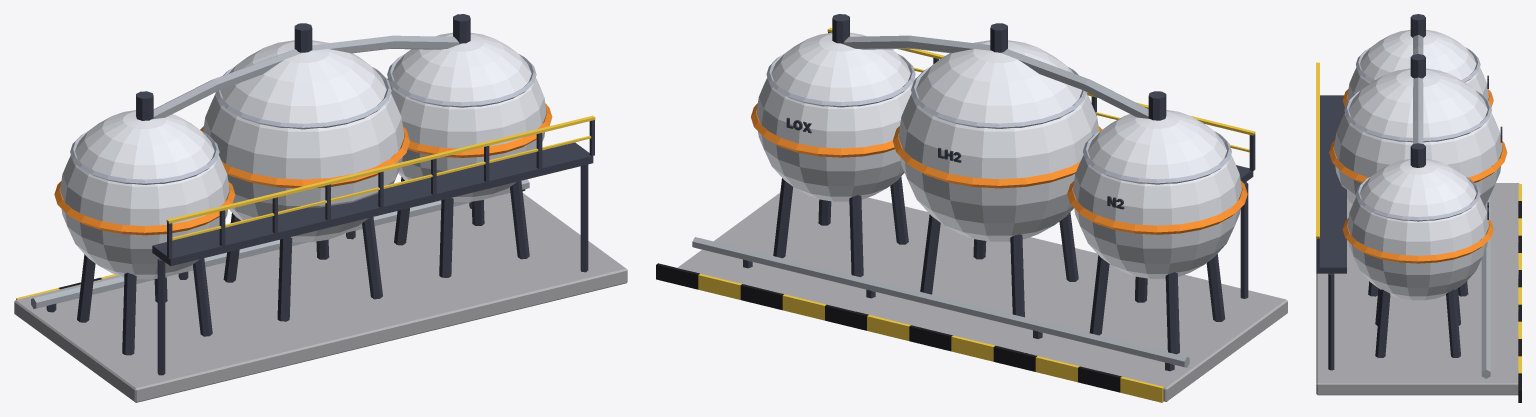
The model's file is FuelTanks.fbx.
3 views of the same model, side by side, from view 1: azimuth 30°, elevation 25°; view 2: azimuth 150°, elevation 25°; view 3: azimuth 270°, elevation 25° (orthographic). The views are drawn at different scales.
Visible parts, largest first — view 1: FuelTanks_MoonWhite, FuelTanks_Concrete, FuelTanks_MoonDark, FuelTanks_Metal, FuelTanks_Orange, FuelTanks_Yellow, FuelTanks_MoonPanel; view 2: FuelTanks_MoonWhite, FuelTanks_Concrete, FuelTanks_MoonDark, FuelTanks_Metal, FuelTanks_Orange, FuelTanks_Yellow, FuelTanks_Black, FuelTanks_MoonPanel; view 3: FuelTanks_MoonWhite, FuelTanks_Concrete, FuelTanks_MoonDark, FuelTanks_Metal, FuelTanks_Orange, FuelTanks_MoonPanel, FuelTanks_Yellow, FuelTanks_Black.
Part boxes in pixels (x1=…): FuelTanks_MoonWhite: x1=60, y1=32, x2=546, y2=279; FuelTanks_Concrete: x1=14, y1=193, x2=627, y2=402; FuelTanks_MoonDark: x1=46, y1=14, x2=594, y2=375; FuelTanks_Metal: x1=31, y1=35, x2=529, y2=308; FuelTanks_Orange: x1=54, y1=103, x2=552, y2=235; FuelTanks_Yellow: x1=16, y1=115, x2=595, y2=299; FuelTanks_MoonPanel: x1=70, y1=54, x2=536, y2=184; FuelTanks_MoonWhite: x1=756, y1=32, x2=1241, y2=278; FuelTanks_Concrete: x1=677, y1=187, x2=1287, y2=401; FuelTanks_MoonDark: x1=743, y1=14, x2=1255, y2=371; FuelTanks_Metal: x1=692, y1=35, x2=1189, y2=367; FuelTanks_Orange: x1=751, y1=103, x2=1247, y2=234; FuelTanks_Yellow: x1=698, y1=28, x2=1255, y2=402; FuelTanks_Black: x1=656, y1=263, x2=1121, y2=392; FuelTanks_MoonPanel: x1=766, y1=54, x2=1231, y2=184; FuelTanks_MoonWhite: x1=1334, y1=29, x2=1502, y2=300; FuelTanks_Concrete: x1=1316, y1=183, x2=1519, y2=395; FuelTanks_MoonDark: x1=1316, y1=14, x2=1502, y2=370; FuelTanks_Metal: x1=1413, y1=35, x2=1490, y2=378; FuelTanks_Orange: x1=1329, y1=89, x2=1507, y2=263; FuelTanks_MoonPanel: x1=1344, y1=47, x2=1491, y2=221; FuelTanks_Yellow: x1=1316, y1=62, x2=1521, y2=373; FuelTanks_Black: x1=1518, y1=201, x2=1521, y2=402.
Size of the model in its own units: 29.45 by 15 by 12.11.
